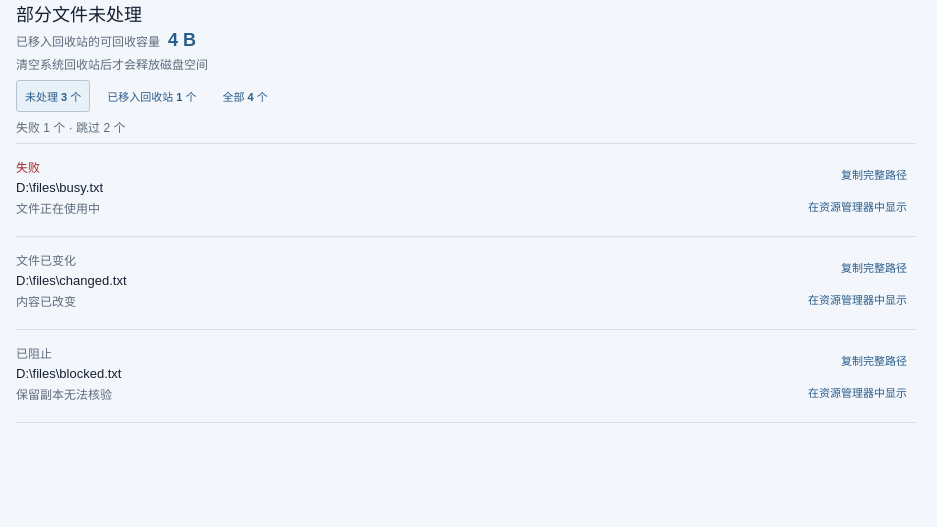
Scenario: 清理结果 › 默认展示全部未处理状态，可筛选成功项但不提供已回收文件定位
Check: the heading "部分文件未处理" is shown, box [16,5,142,25]
Check: the text "D:\\files\\busy.txt" is shown, box [16,180,103,195]
Click the button "已移入回收站 1 个": [152, 96] box [98,80,206,112]
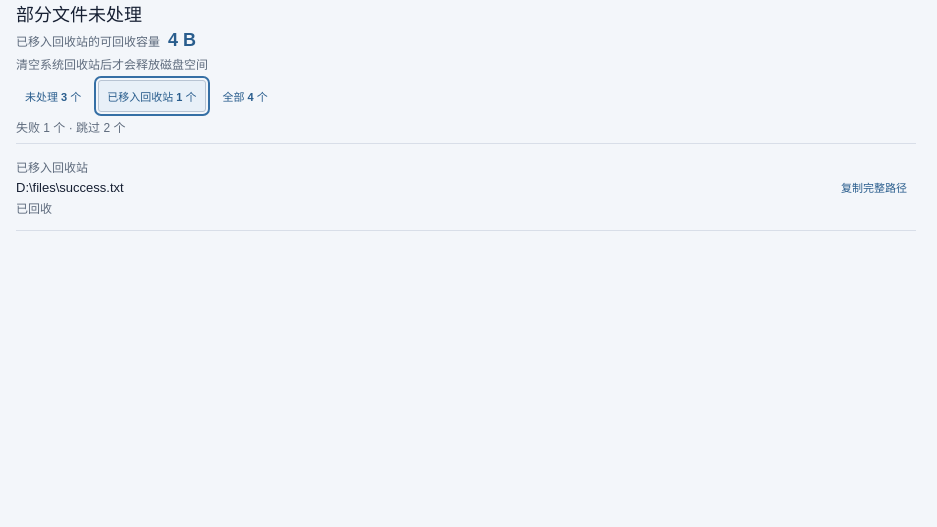
Check: the text "D:\\files\\success.txt" is shown, box [16,180,124,195]
Check: the button "在资源管理器中显示" is gone
Click the button "复制完整路径": [874, 187] box [832,171,916,203]
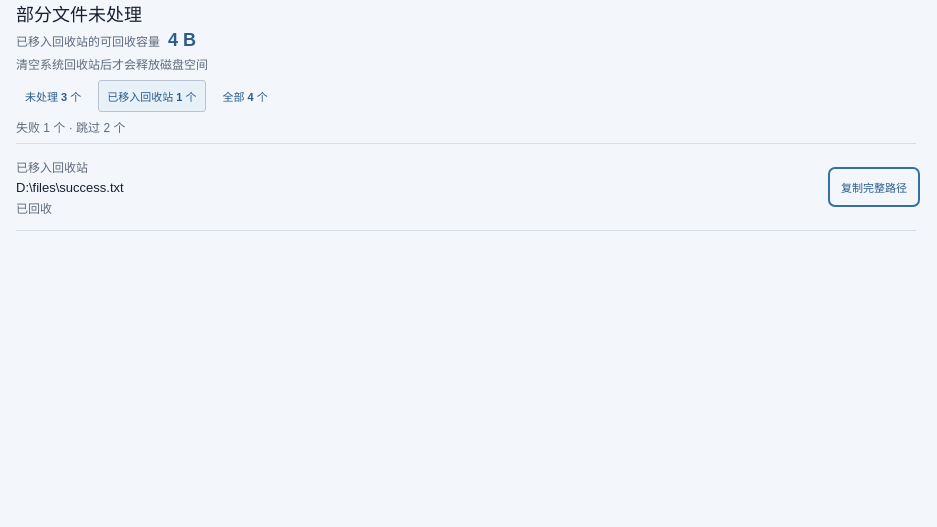
Click the button "全部 4 个": [245, 96] box [214,80,277,112]
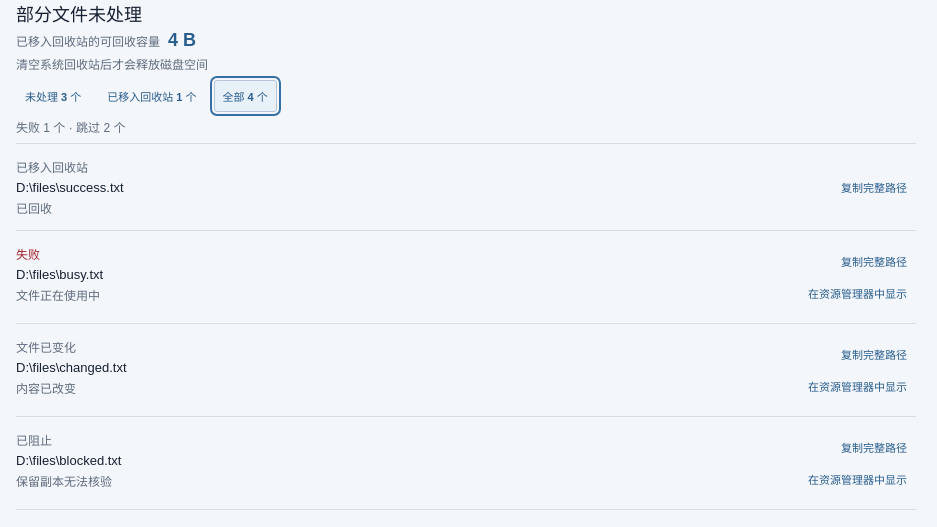
Check: the number of buttons "复制完整路径" is 4, box [832,171,916,203]; [832,245,916,277]; [832,338,916,370]; [832,431,916,463]
Check: the number of buttons "在资源管理器中显示" is 3, box [799,277,916,309]; [799,370,916,402]; [799,463,916,495]
